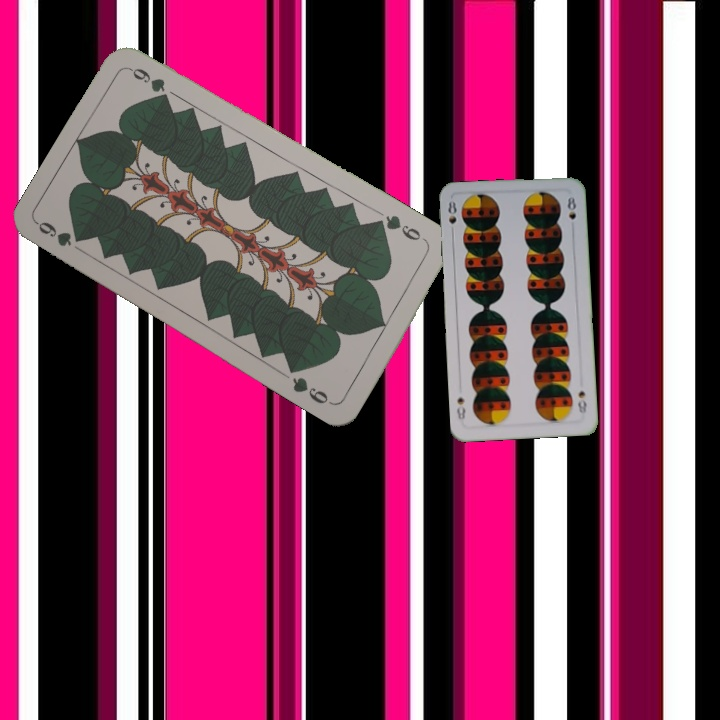G9: (375, 211, 431, 247), (34, 217, 86, 249)
S8: (574, 386, 589, 416), (444, 197, 459, 226)
